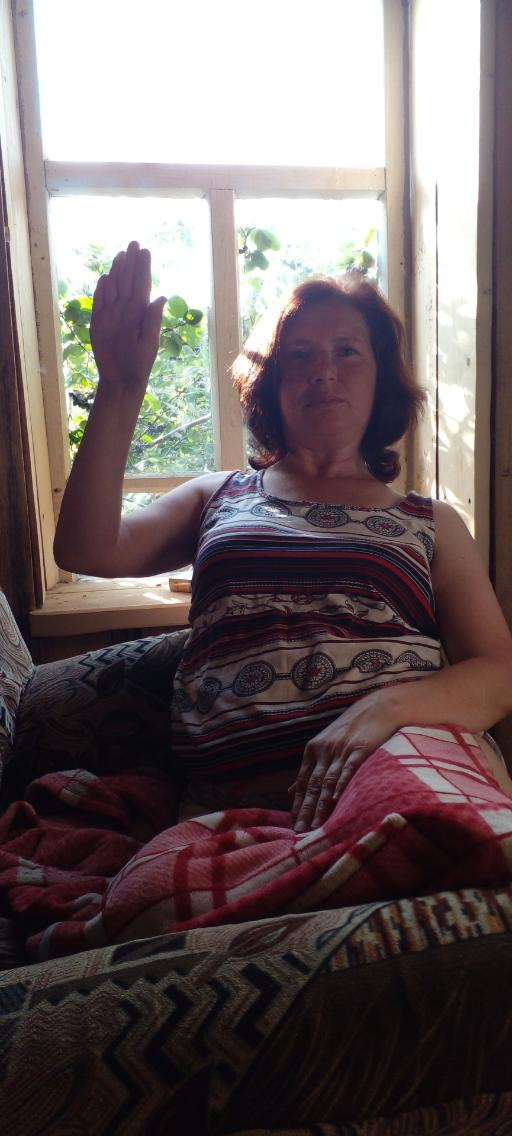no_gesture: (285, 686, 394, 827)
stop: (87, 238, 169, 387)
